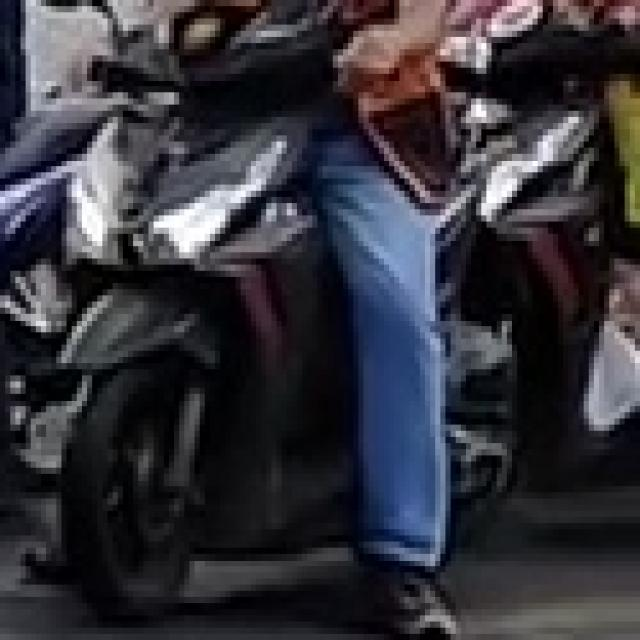tyre: (56, 357, 205, 621)
